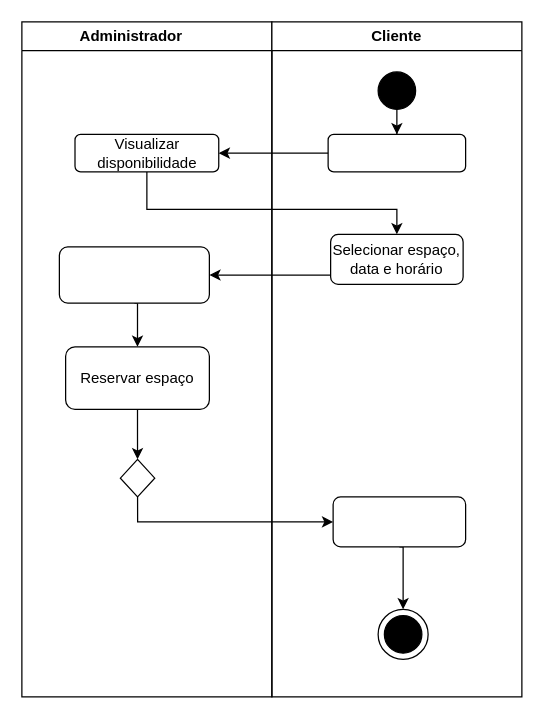
Image size: 544x719. Some labels were removed from this diagram. The shapes that lost their labels are listed below. From the top down, each one's centre as x and y in pixels, then its label:
At (x=396, y=152): "Consulta espaços disponíveis".
At (x=133, y=274): "Verificar disponibilidade".
At (x=399, y=521): "Agendamento concluído".
